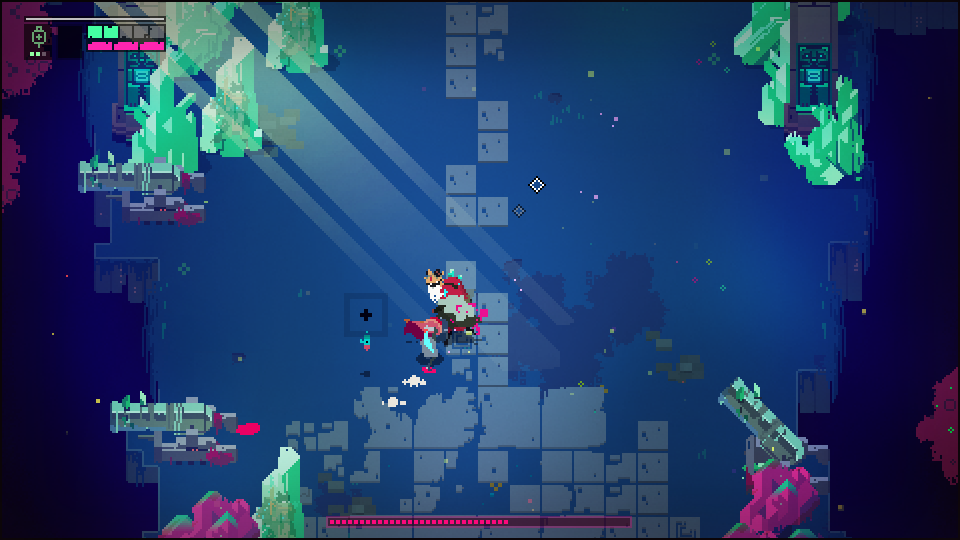hanged_man: (426, 267, 491, 334)
player: (409, 312, 445, 368)
